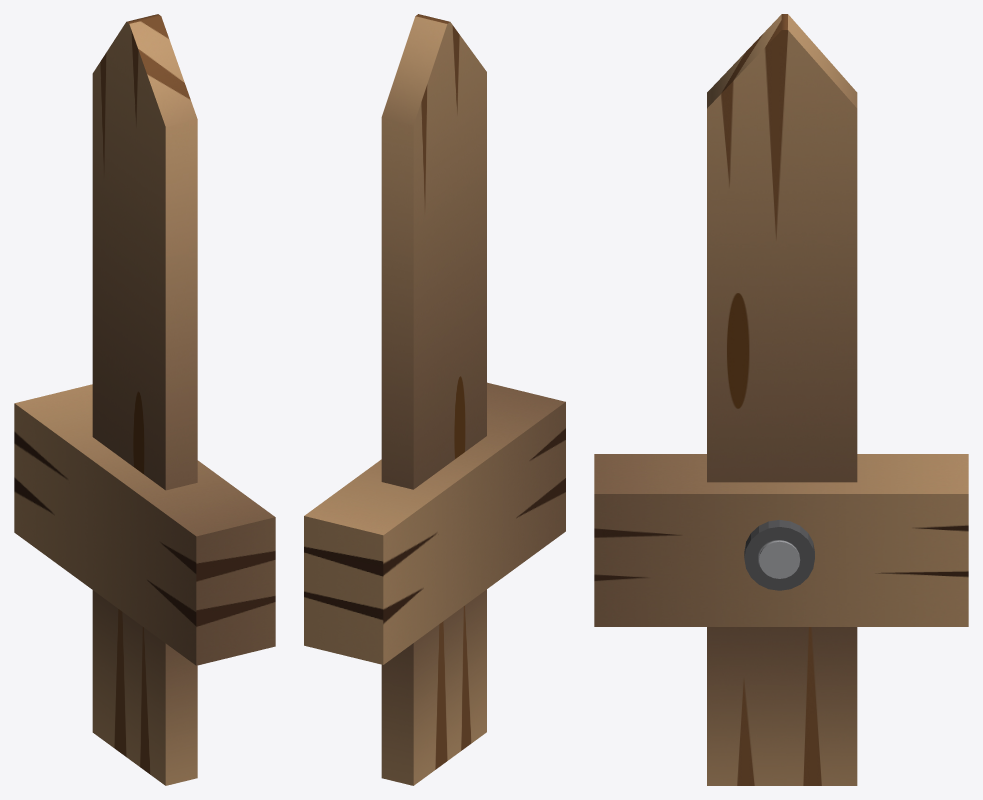
File: woodSword.fbx
The picture shows the model from 3 angles, left to right: view 1: azimuth 30°, elevation 25°; view 2: azimuth 150°, elevation 25°; view 3: azimuth 270°, elevation 25°; orthographic projection. The views are drawn at different scales.
Parts seen in each view (by area): view 1: WoodenSword_01; view 2: WoodenSword_01; view 3: WoodenSword_01.
Part boxes in pixels (x1,y1,x2,y2): WoodenSword_01: (14, 14, 275, 785); WoodenSword_01: (304, 14, 565, 785); WoodenSword_01: (594, 14, 968, 785).
Bounding box in the file's own units: 15.8 × 115 × 51.74.
Materials: 1 (1 with a texture image).
